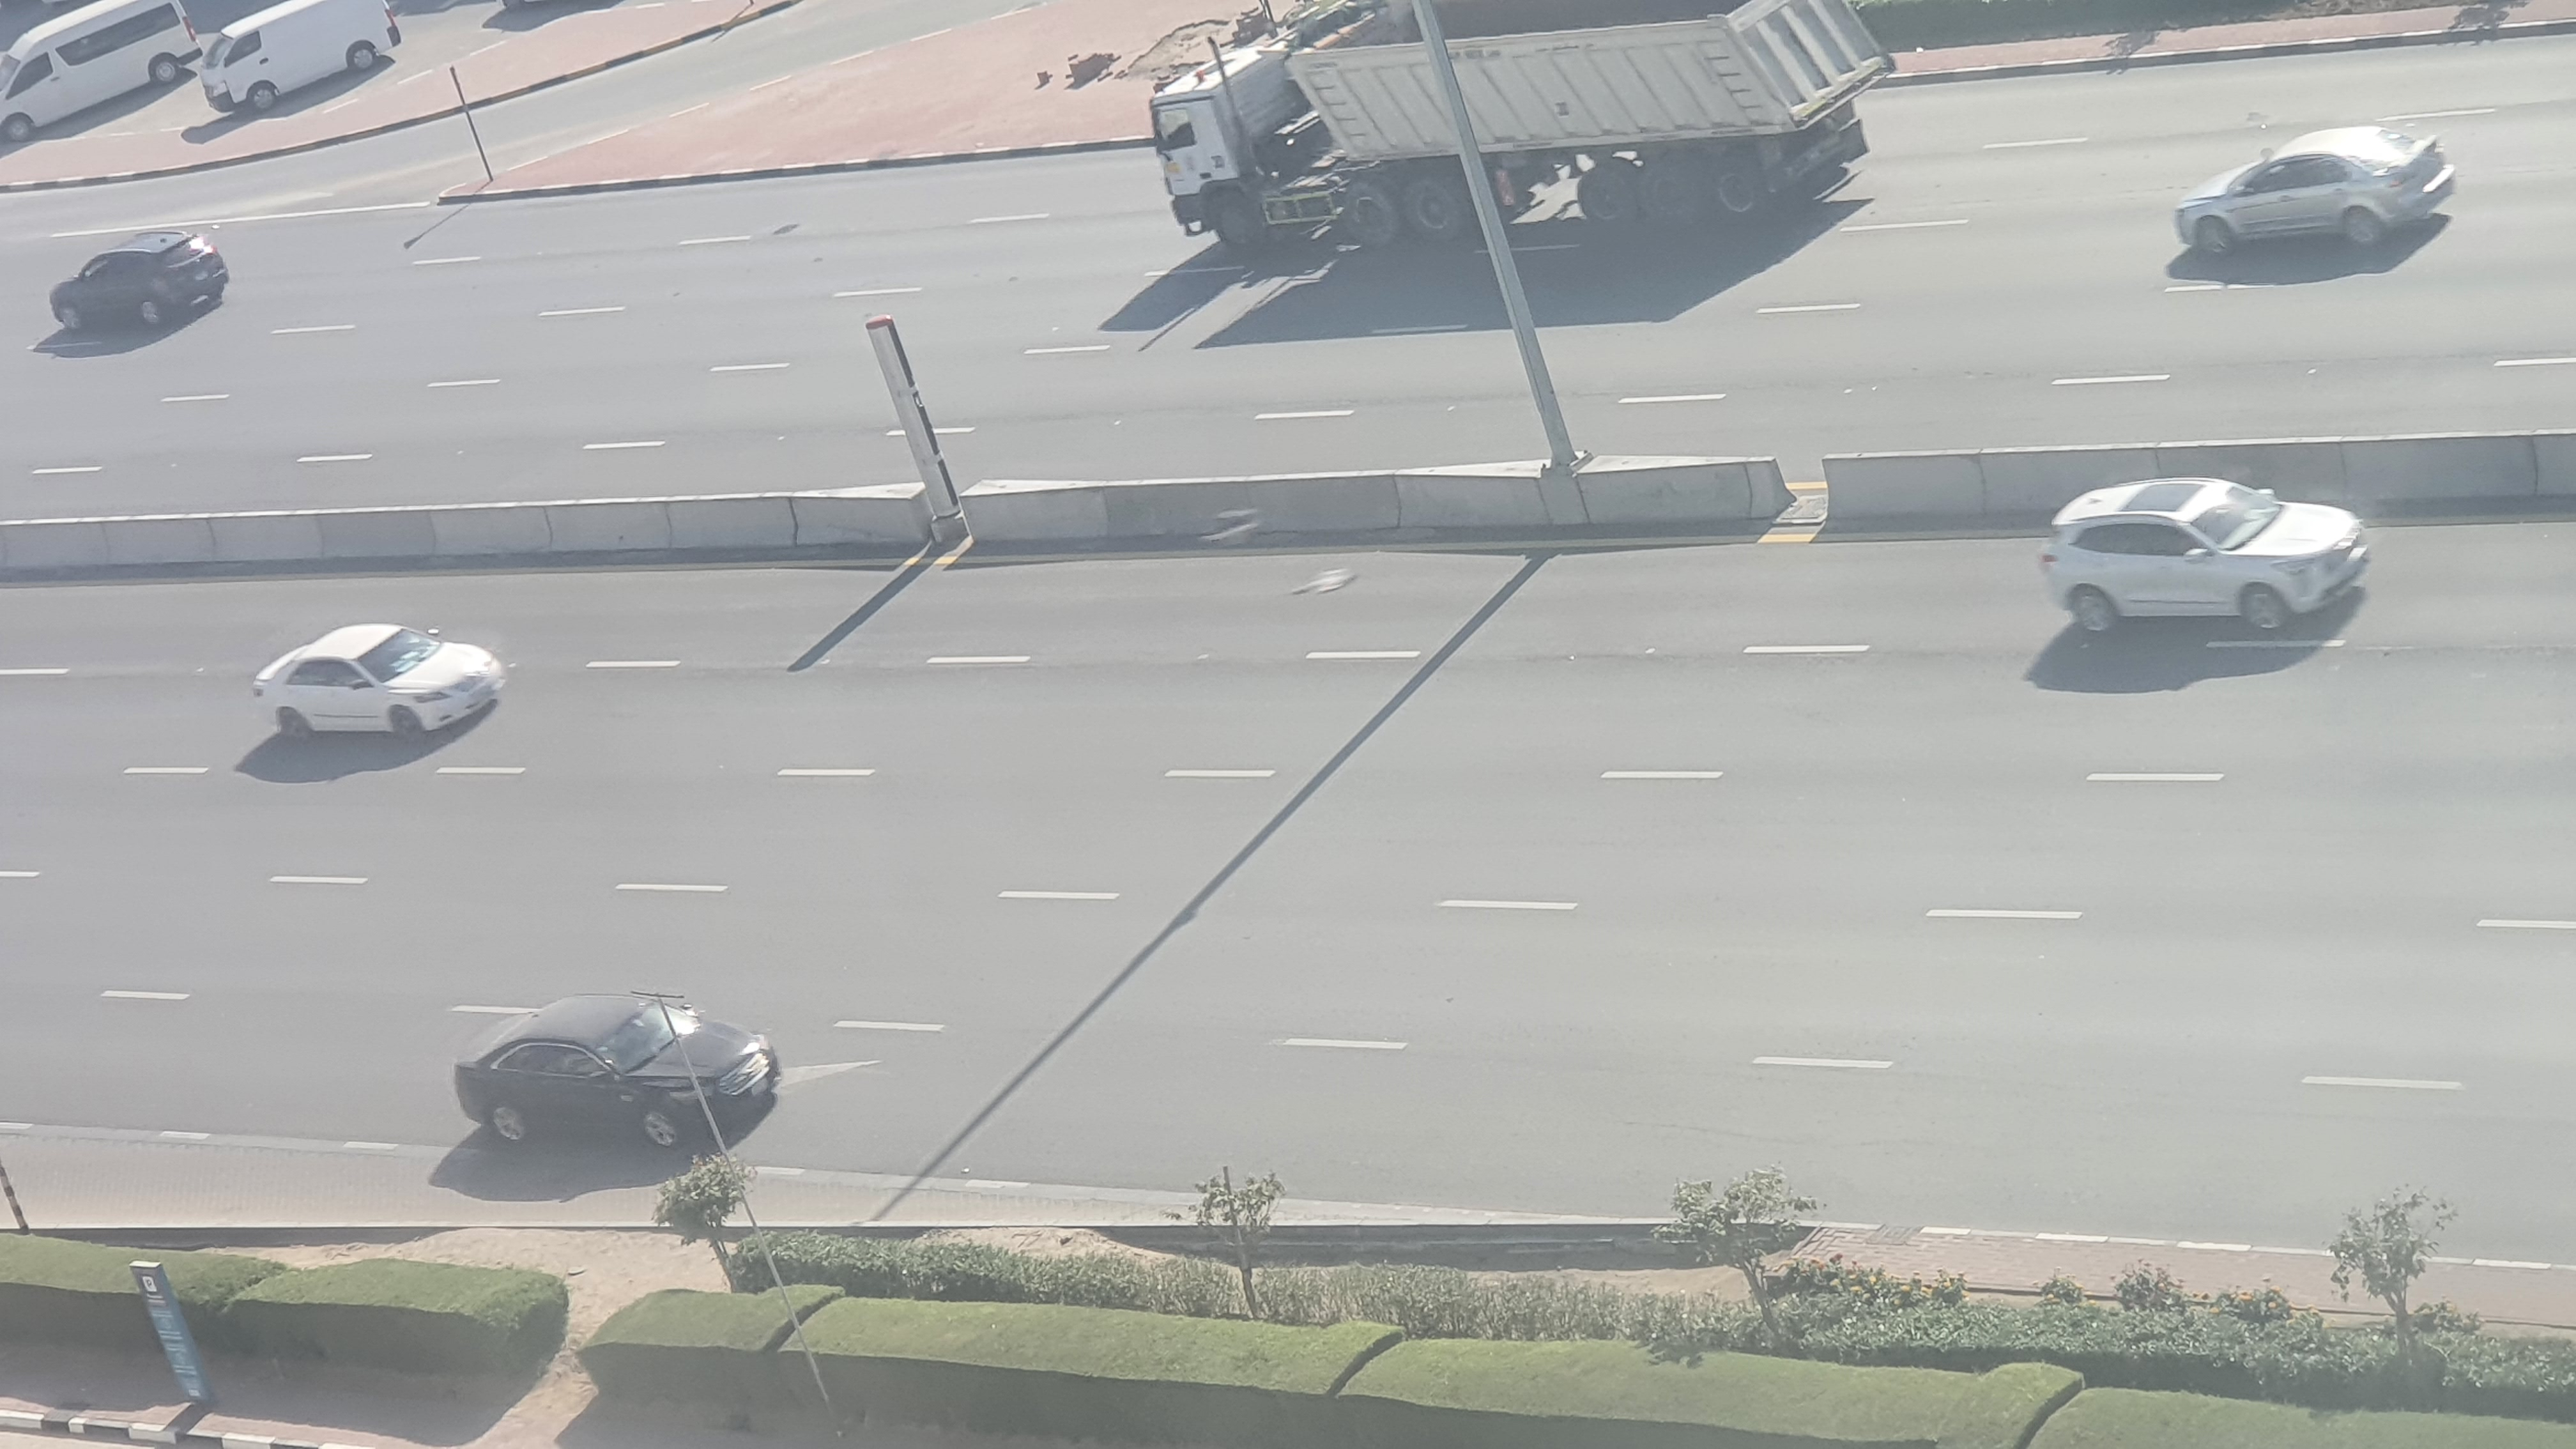NotSunroof: (449, 985, 789, 1157), (248, 621, 501, 752)
Sunroof: (2036, 460, 2369, 642)
